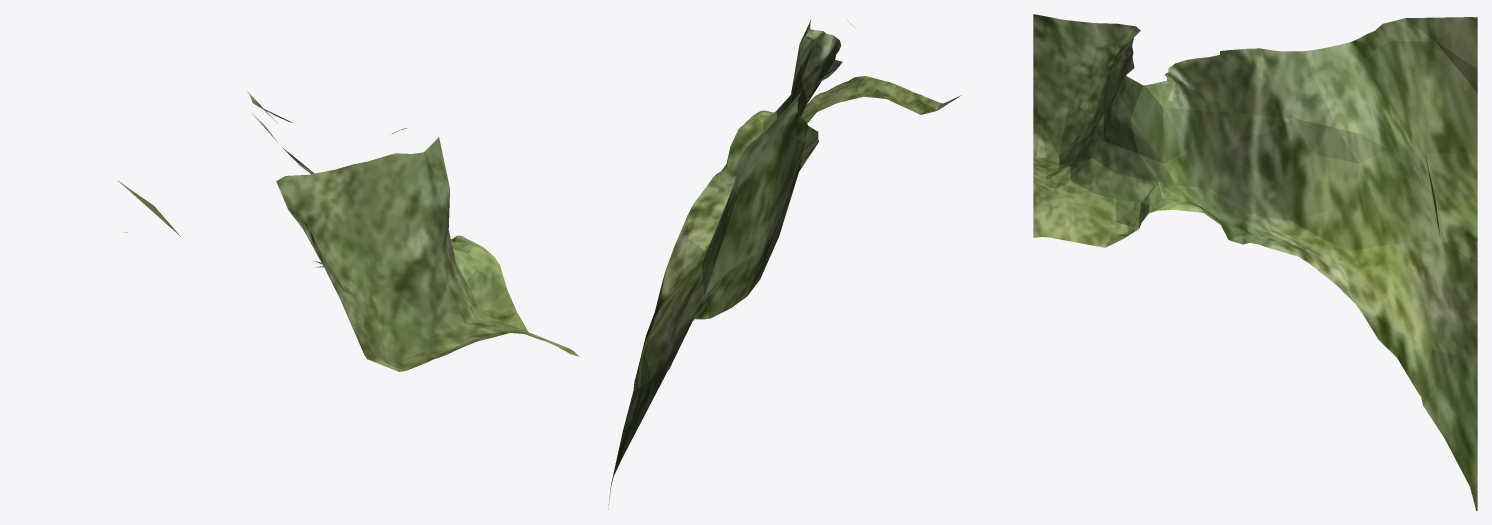
The picture shows the model from 3 angles, left to right: view 1: azimuth 30°, elevation 25°; view 2: azimuth 150°, elevation 25°; view 3: azimuth 270°, elevation 25°; orthographic projection. The views are drawn at different scales.
Bounding box in the file's own units: 1.48 × 2.95 × 2.95.
2 materials, 2 textured.
